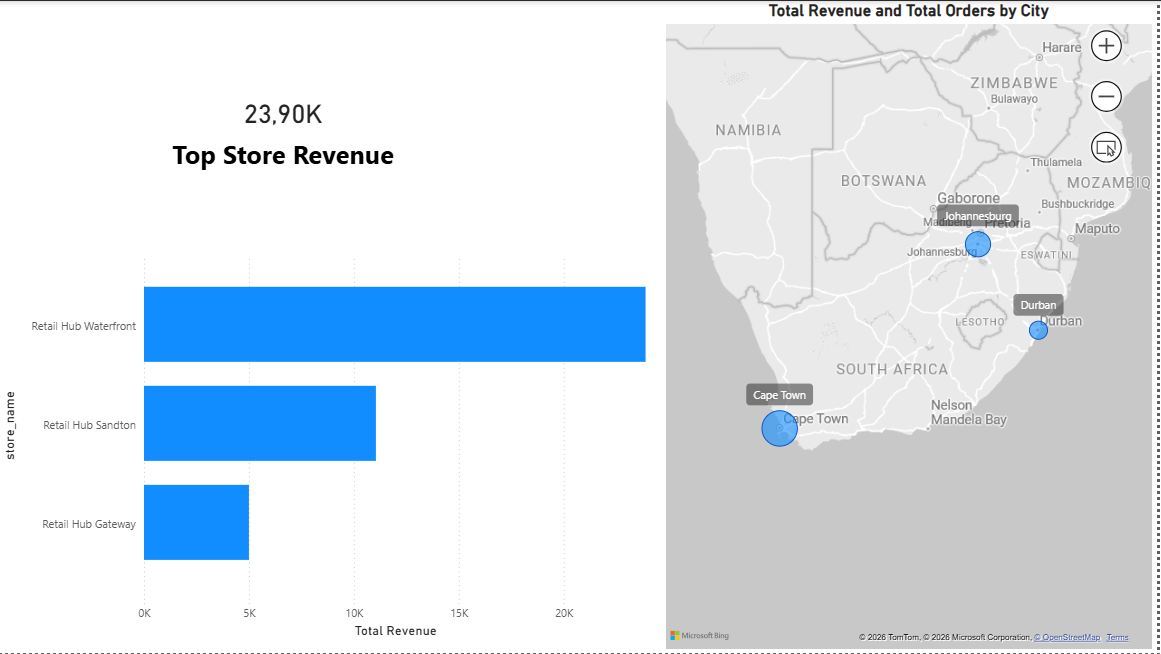

The dashboard page shown, as its layout file describes it:
{"tool":"powerbi","page":{"name":"Store Performance","canvas":[1280,720],"ordinal":3},"visuals":[{"type":"barChart","title":"Total Revenue by Store","fields":{"Category":["stores.store_name"],"Y":["Measures (3).Total Revenue"]},"box":[0,238.1,733.2,468.7],"z":0},{"type":"card","fields":{"Values":["Measures (3).Top Store Revenue"]},"box":[0,0,631.2,281.6],"z":1000},{"type":"map","title":"Total Revenue and Total Orders by City","fields":{"Category":["stores.city"],"Size":["Measures (3).Total Revenue"]},"box":[733.2,0,546.1,720],"z":2000}]}

Visuals, with their boxes in screenshot pixels (x1, y1, x2, y2), scaled from the page's 1280x720 canvas onto the 1161x654 screenshot:
"Total Revenue by Store" barChart: region(0, 216, 665, 642)
card - Measures (3).Top Store Revenue: region(0, 0, 573, 256)
"Total Revenue and Total Orders by City" map: region(665, 0, 1160, 653)
